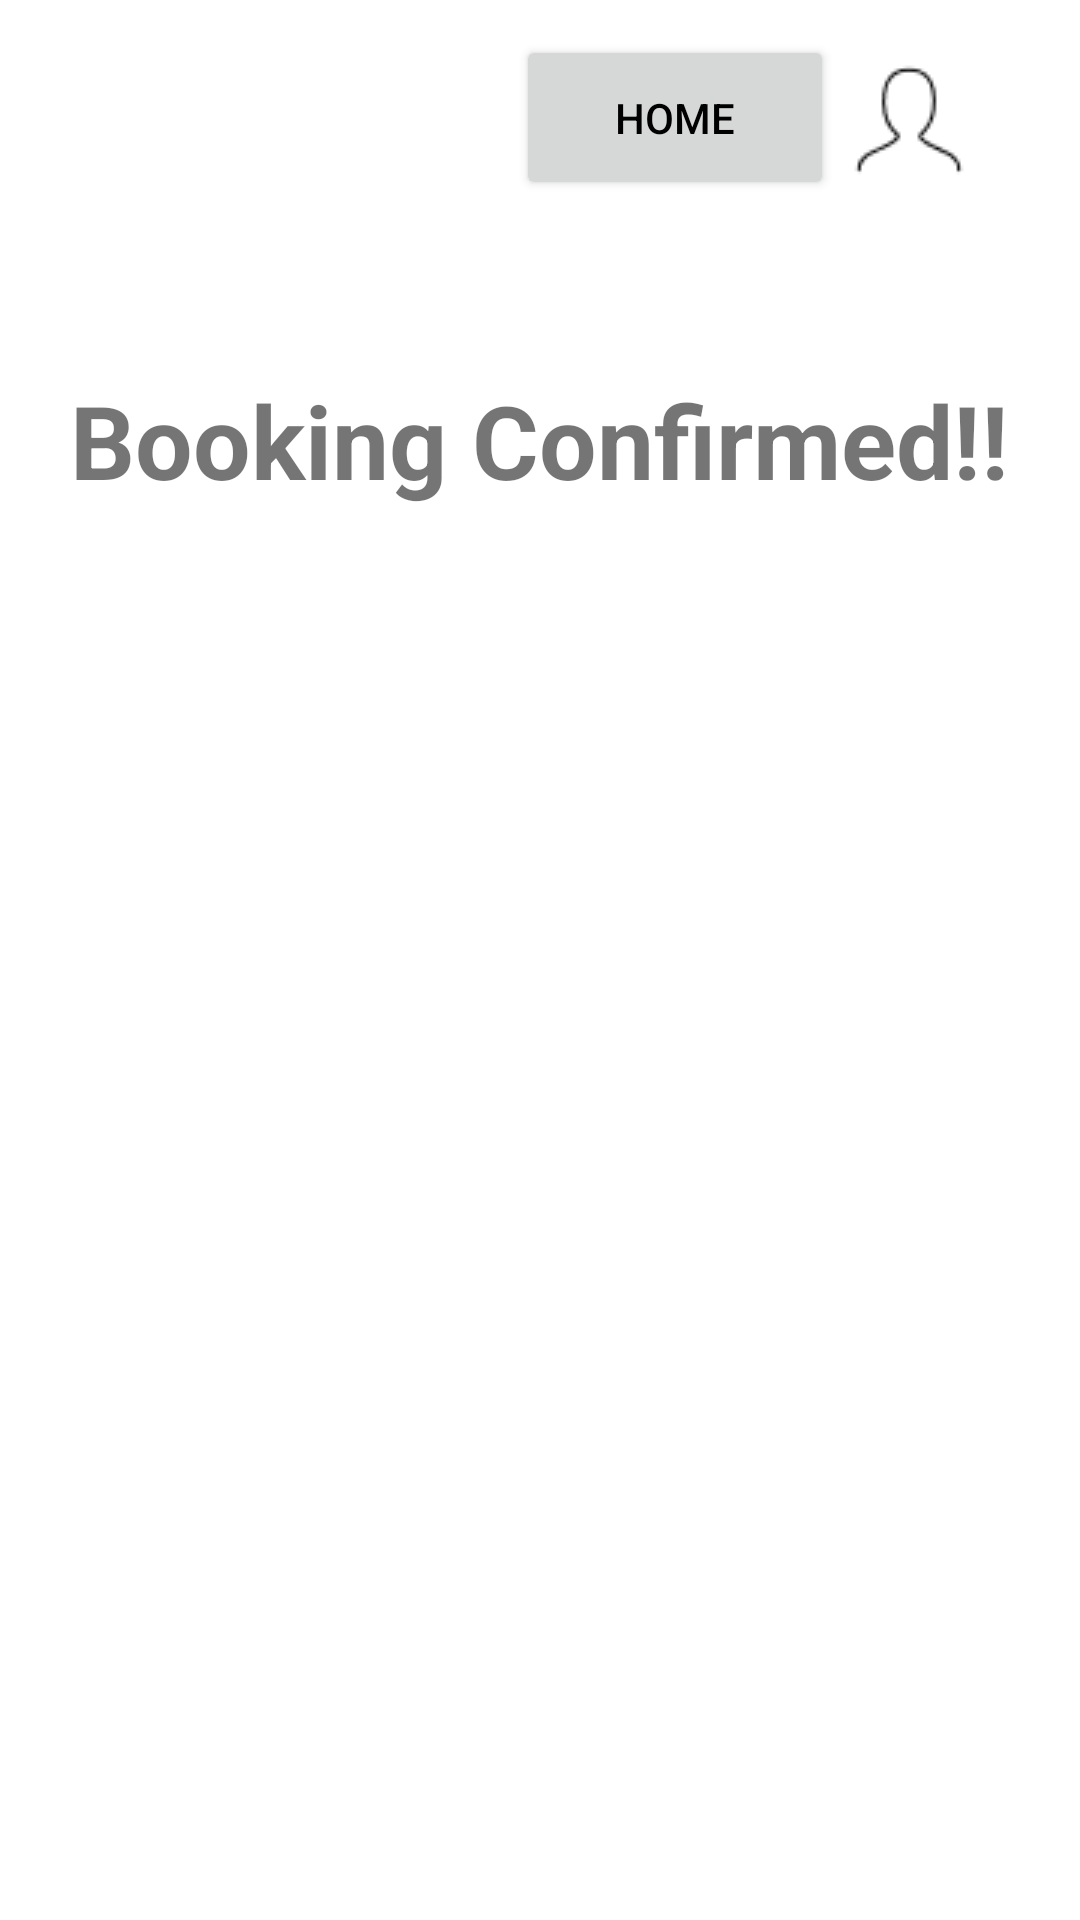

Screen size 1080px×1920px. Icon name, then its box in pixels as region(x1, y1, x2, y2):
usericon: region(856, 67, 962, 172)
